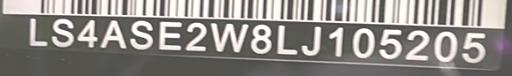letter: (209, 19, 251, 53), (460, 28, 488, 65), (402, 28, 432, 62), (98, 17, 128, 49), (126, 19, 154, 51), (157, 19, 183, 53), (183, 19, 209, 53), (248, 22, 274, 56), (350, 26, 376, 59), (433, 30, 459, 63), (50, 15, 76, 47), (274, 22, 298, 56), (378, 27, 402, 60), (26, 15, 50, 47), (300, 23, 324, 55), (75, 17, 99, 47), (327, 24, 347, 59)
